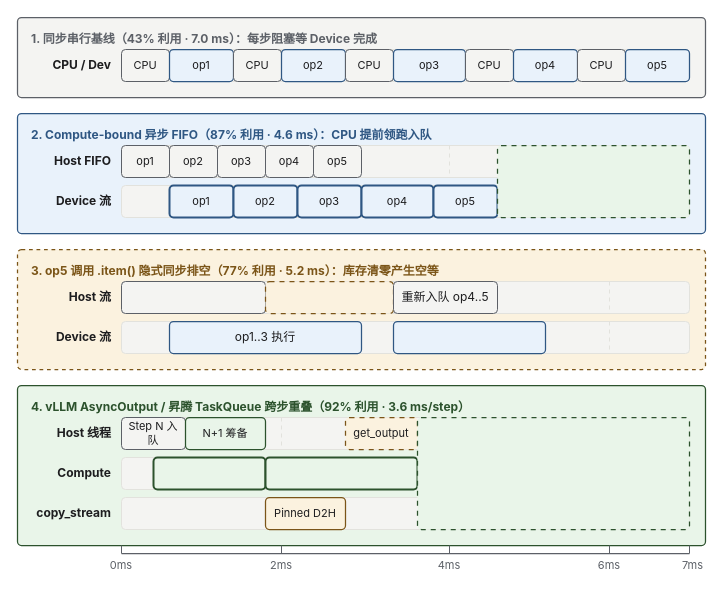
The diagram is 724 pixels wide and 595 high, and some of its shapes have lost their labels. The centre of each missing label's shape, as x and y in pixels:
"op1..3" belongs at (193,297).
"Step N 计算与采样" belongs at (209,473).
"Step N+1 HBM 直读" belongs at (341,473).
"省 2.4 ms" belongs at (593,181).
"省 3.4 ms (-49%)" belongs at (553,473).
"重启动 op4..5" belongs at (469,337).
"阻塞排空墙 (1.6ms)" belongs at (329,297).
